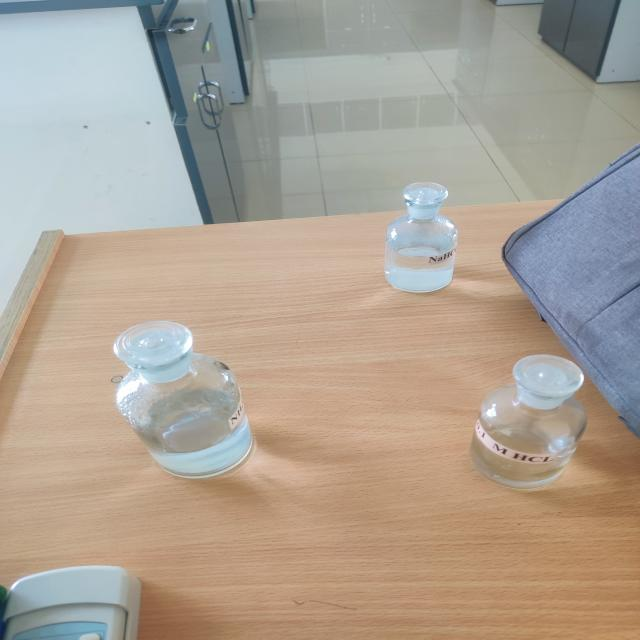Reagent_Bottle: (85, 304, 288, 504), (453, 340, 618, 508), (359, 160, 483, 308)
